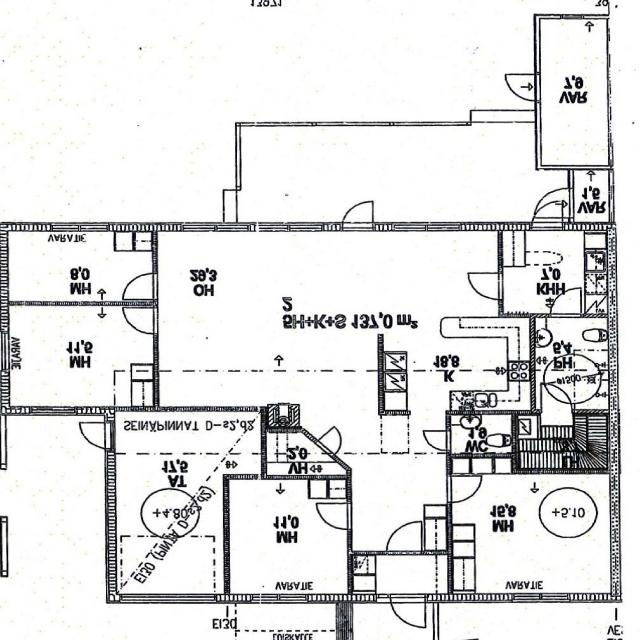door: (386, 520, 422, 555), (534, 188, 575, 218), (73, 422, 117, 449), (315, 426, 352, 457), (391, 594, 423, 629), (342, 196, 373, 232), (532, 196, 562, 232), (315, 503, 353, 530), (504, 74, 541, 101), (447, 476, 485, 502), (122, 307, 159, 333), (122, 273, 159, 299), (541, 383, 572, 414), (551, 288, 582, 318), (468, 273, 503, 299), (424, 430, 452, 450)
